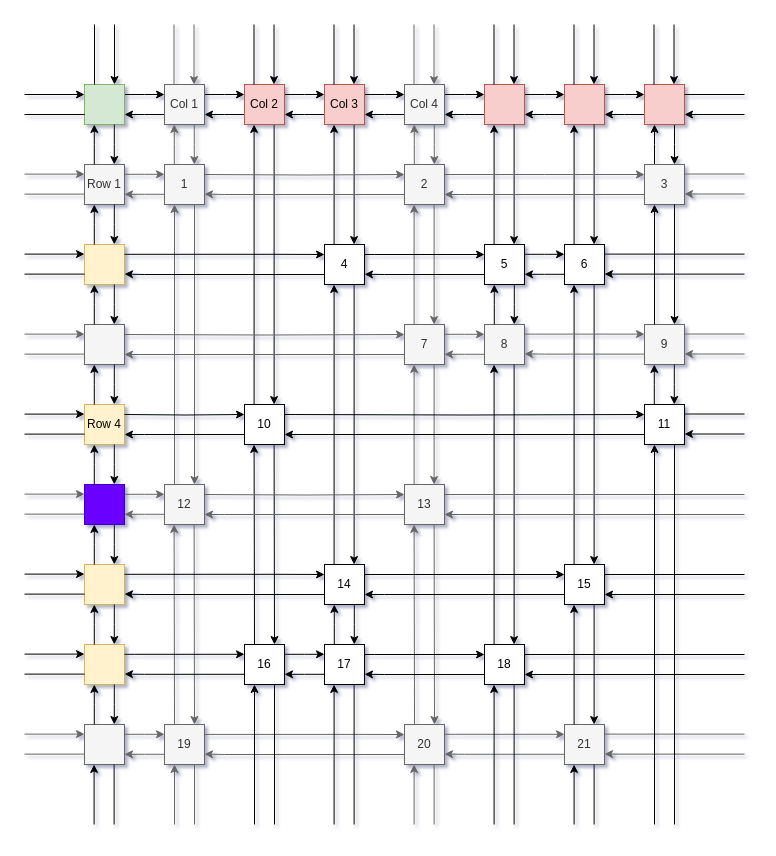
This 776x856 diagram has some shape labels left out. The shapes that lost their labels are listed below. From the top down, each one's centre as x and y in pixels, then its label:
the point at 104,104: Head
the point at 504,104: Col 5
the point at 584,104: Col 6
the point at 664,104: Col 7
the point at 104,264: Row 2
the point at 104,344: Row 3
the point at 104,504: Row 5
the point at 104,584: Row 6
the point at 104,664: Row 7
the point at 104,744: Row 8
